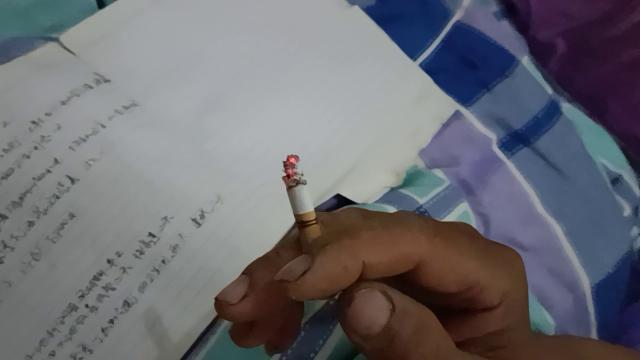Smoking: (284, 154, 332, 278)
